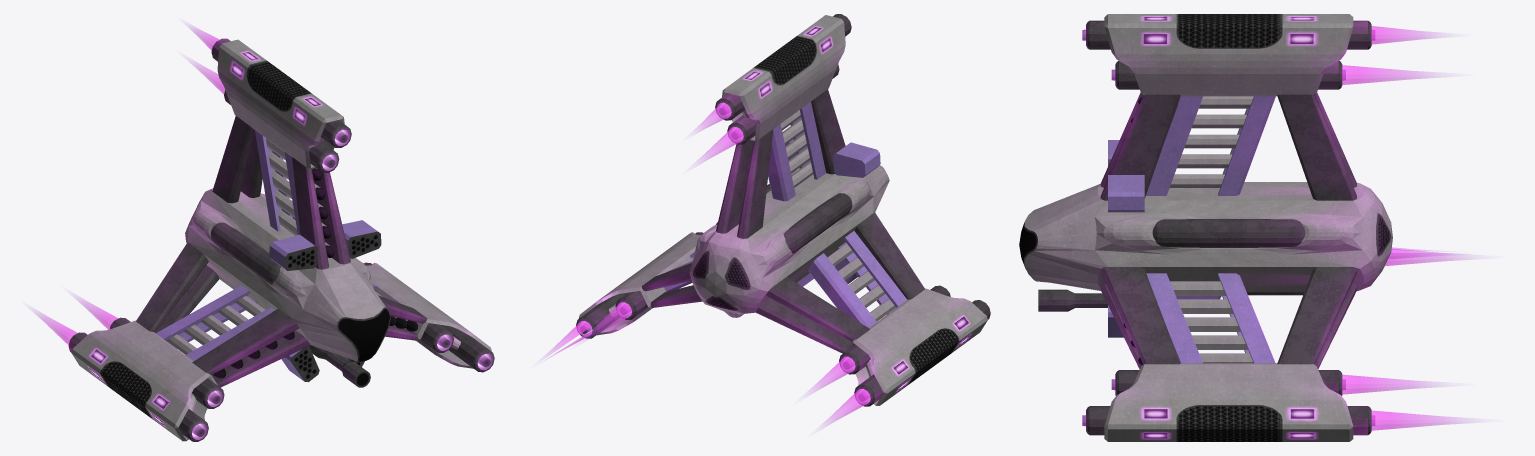
The model's file is euler.gltf.
The picture shows the model from 3 angles, left to right: view 1: azimuth 30°, elevation 25°; view 2: azimuth 150°, elevation 25°; view 3: azimuth 270°, elevation 25°; orthographic projection. The views are drawn at different scales.
Visible parts, largest first — view 1: base glow, glow; view 2: base glow, glow; view 3: base glow, glow.
Part boxes in pixels (x1,y1,x2,y2): base glow: [68, 38, 494, 441]; glow: [32, 23, 363, 344]; base glow: [576, 14, 990, 406]; glow: [542, 102, 870, 428]; base glow: [1019, 14, 1392, 441]; glow: [1342, 26, 1475, 430].
Size of the model in its own units: 5.85 by 5.09 by 6.83.
Materials: 2 (2 with a texture image).
